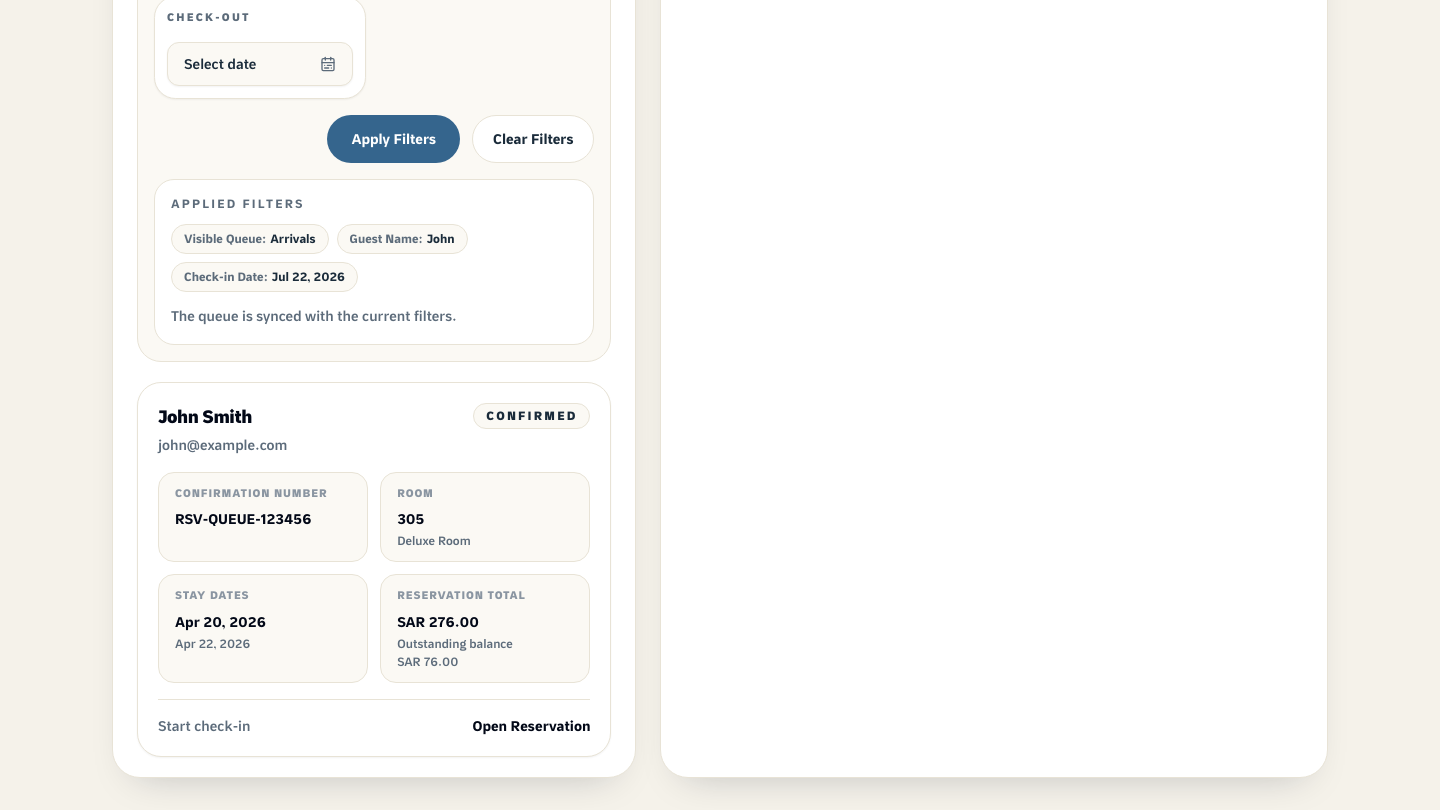
ReservationsWorkspace › opens the standalone reservation page on mobile while preserving filters
The width and height of the screenshot is (1440, 810).
(page scrolled)
Expected: the text "RSV-QUEUE-123456" is shown, left=175, top=509, right=311, bottom=529
What coordinates should you click on to do the following:
click the button named "Open Reservation"
I would click on:
 (374, 569)
Its box is left=137, top=382, right=612, bottom=756.
(page scrolled)
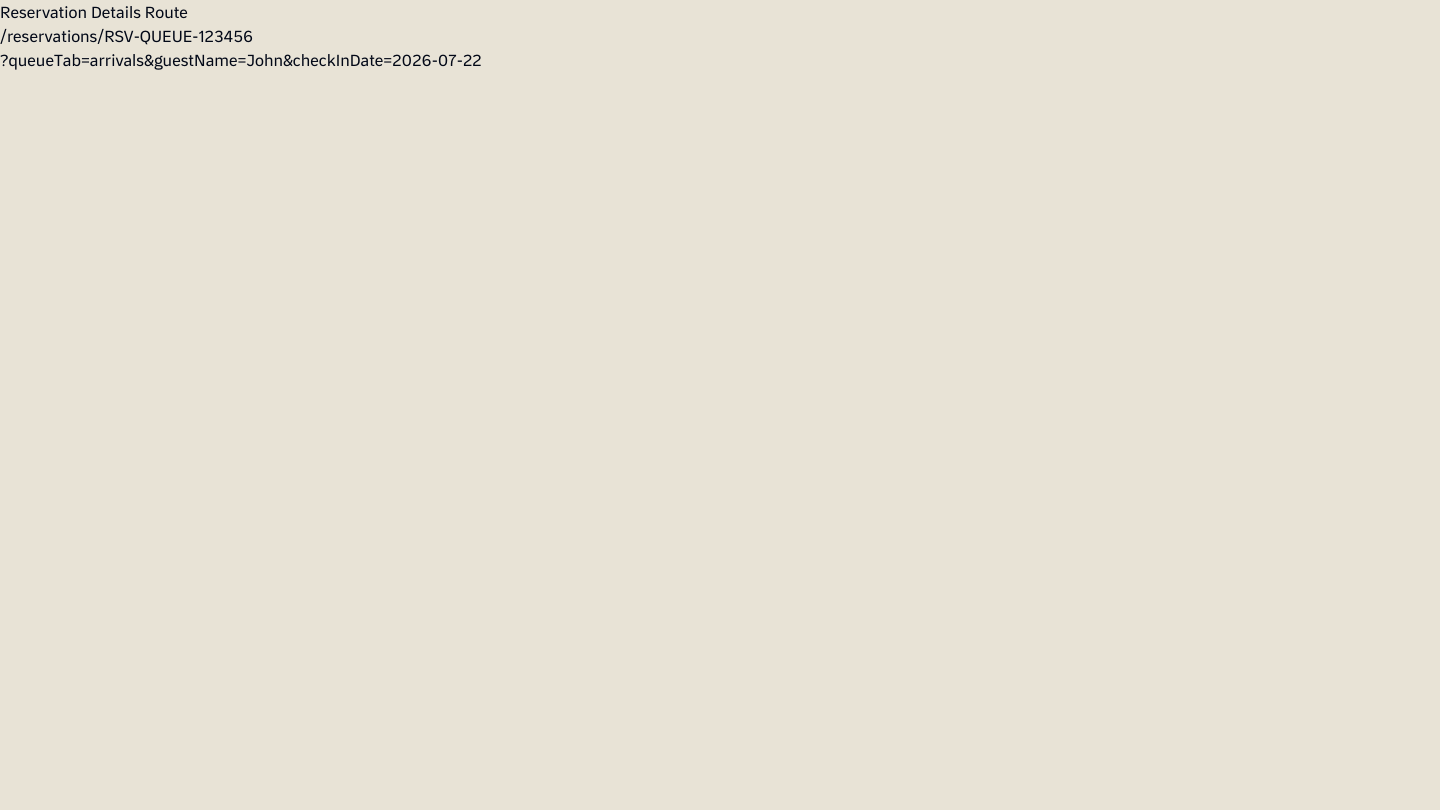
Expected: the text "Reservation Details Route" is shown, left=0, top=2, right=188, bottom=22
Expected: the text "/reservations/RSV-QUEUE-123456" is shown, left=0, top=26, right=253, bottom=46
Expected: the text "?queueTab=arrivals&guestName=John&checkInDate=2026-07-22" is shown, left=0, top=50, right=482, bottom=70
